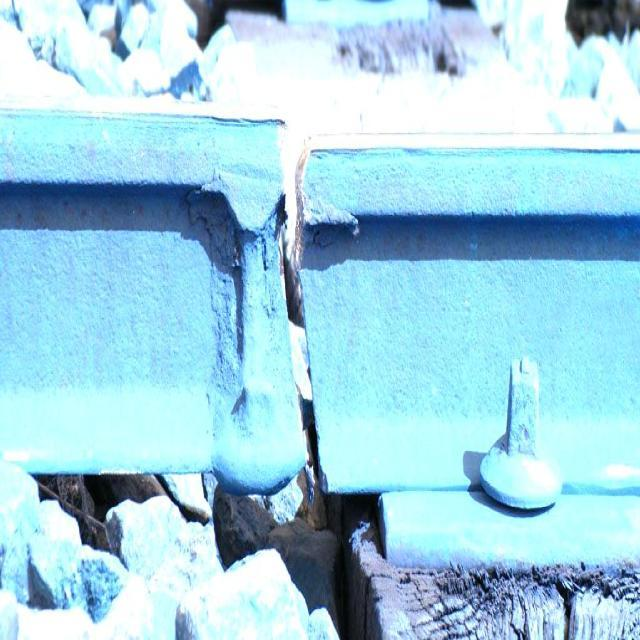broken_rail_high: (260, 114, 339, 488)
